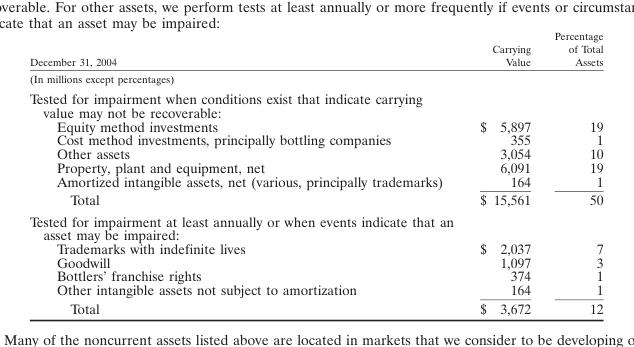table: (28, 29, 602, 316)
table column: (28, 29, 460, 316), (460, 29, 541, 316), (541, 29, 602, 316)
table column header: (28, 29, 602, 69)
table projected row header: (28, 87, 602, 119), (28, 210, 602, 241), (28, 69, 602, 87)
table row: (28, 29, 602, 69), (28, 87, 602, 119), (28, 210, 602, 241), (28, 190, 602, 210), (28, 69, 602, 87), (28, 298, 602, 316), (28, 173, 602, 190), (28, 282, 602, 298), (28, 132, 602, 146), (28, 146, 602, 160), (28, 241, 602, 255), (28, 268, 602, 282), (28, 119, 602, 132), (28, 160, 602, 173), (28, 255, 602, 268)
